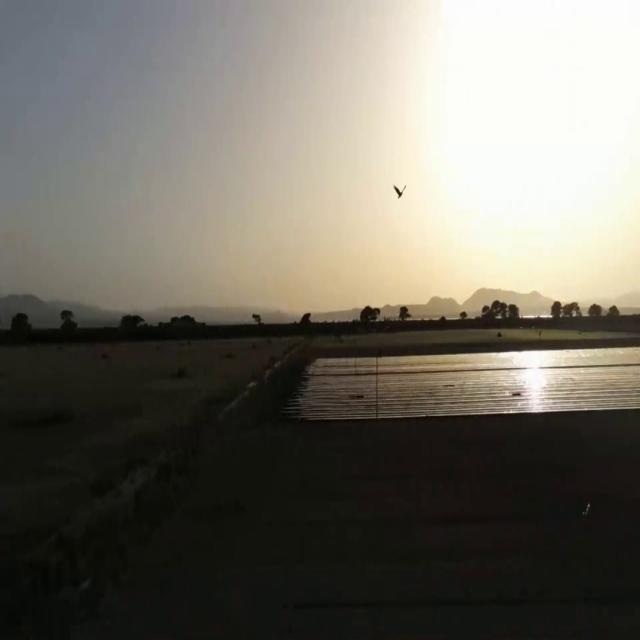bird: (393, 175, 407, 205)
